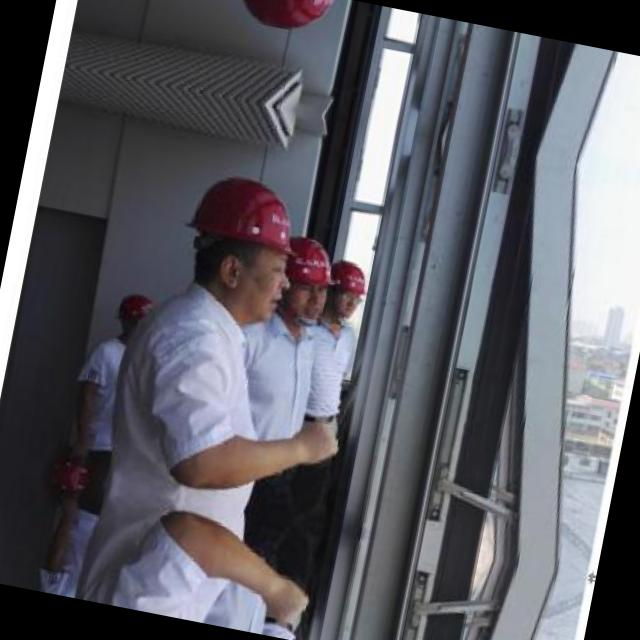helmet: (175, 162, 306, 324), (228, 0, 343, 45), (276, 238, 334, 321), (320, 253, 373, 324), (105, 282, 158, 344)
